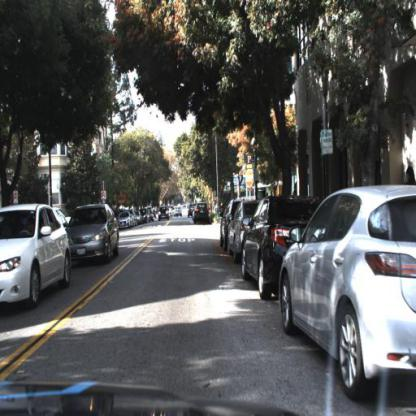car: (277, 181, 416, 405), (1, 203, 73, 315), (239, 196, 279, 304), (70, 199, 121, 269), (225, 198, 249, 263), (118, 212, 134, 227)
